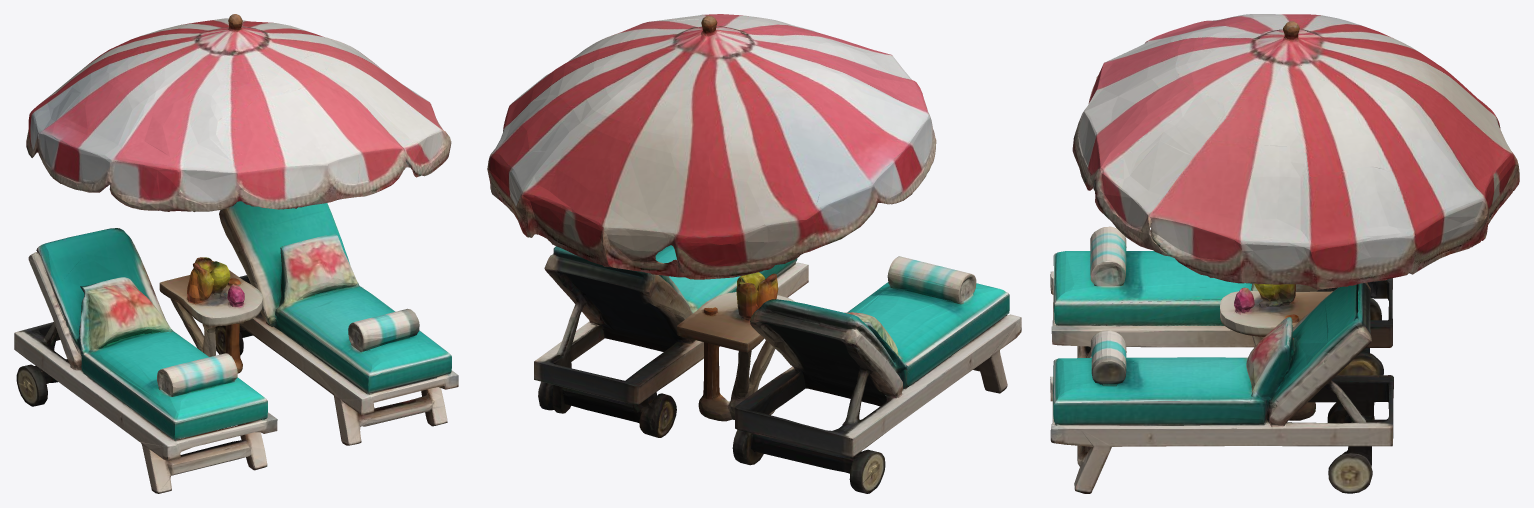
File: prop_umbrella.glb
3 renders of one model, left to right at view 1: azimuth 30°, elevation 25°; view 2: azimuth 150°, elevation 25°; view 3: azimuth 270°, elevation 25°, orthographic. The views are drawn at different scales.
Visible parts, largest first — view 1: world; view 2: world; view 3: world.
Part boxes in pixels (box(x1,y1,x2,y2)): world: box(14, 14, 458, 493); world: box(487, 14, 1021, 493); world: box(1050, 14, 1519, 493).
Size of the model in its own units: 0.665 by 0.6604 by 0.6851.
Materials: 1 (1 with a texture image).
